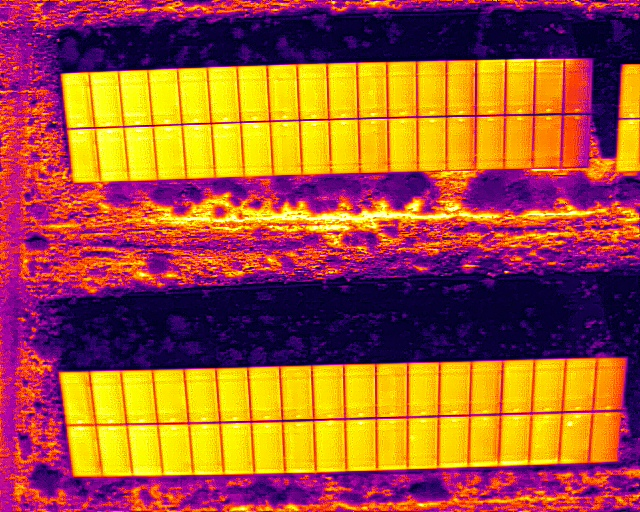photovoltaic_panels: (55, 356, 630, 479), (55, 57, 594, 187), (614, 62, 639, 173)
single_spot: (557, 408, 595, 466)
